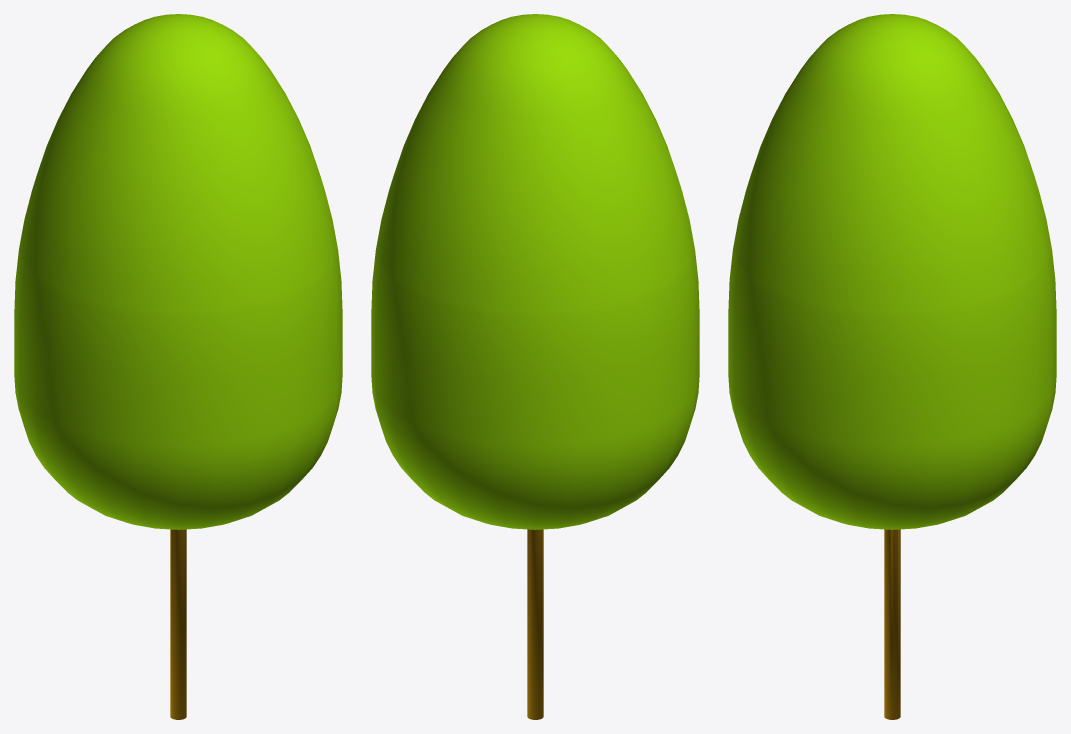
3 renders of one model, left to right at view 1: azimuth 30°, elevation 25°; view 2: azimuth 150°, elevation 25°; view 3: azimuth 270°, elevation 25°, orthographic.
Visible parts, largest first — view 1: LP21m_kk; view 2: LP21m_kk; view 3: LP21m_kk.
Part boxes in pixels (box(x1,y1,x2,y2)): LP21m_kk: box(14, 14, 342, 719); LP21m_kk: box(371, 14, 699, 719); LP21m_kk: box(728, 14, 1056, 719).
Bounding box in the file's own units: 9 × 21 × 9.
